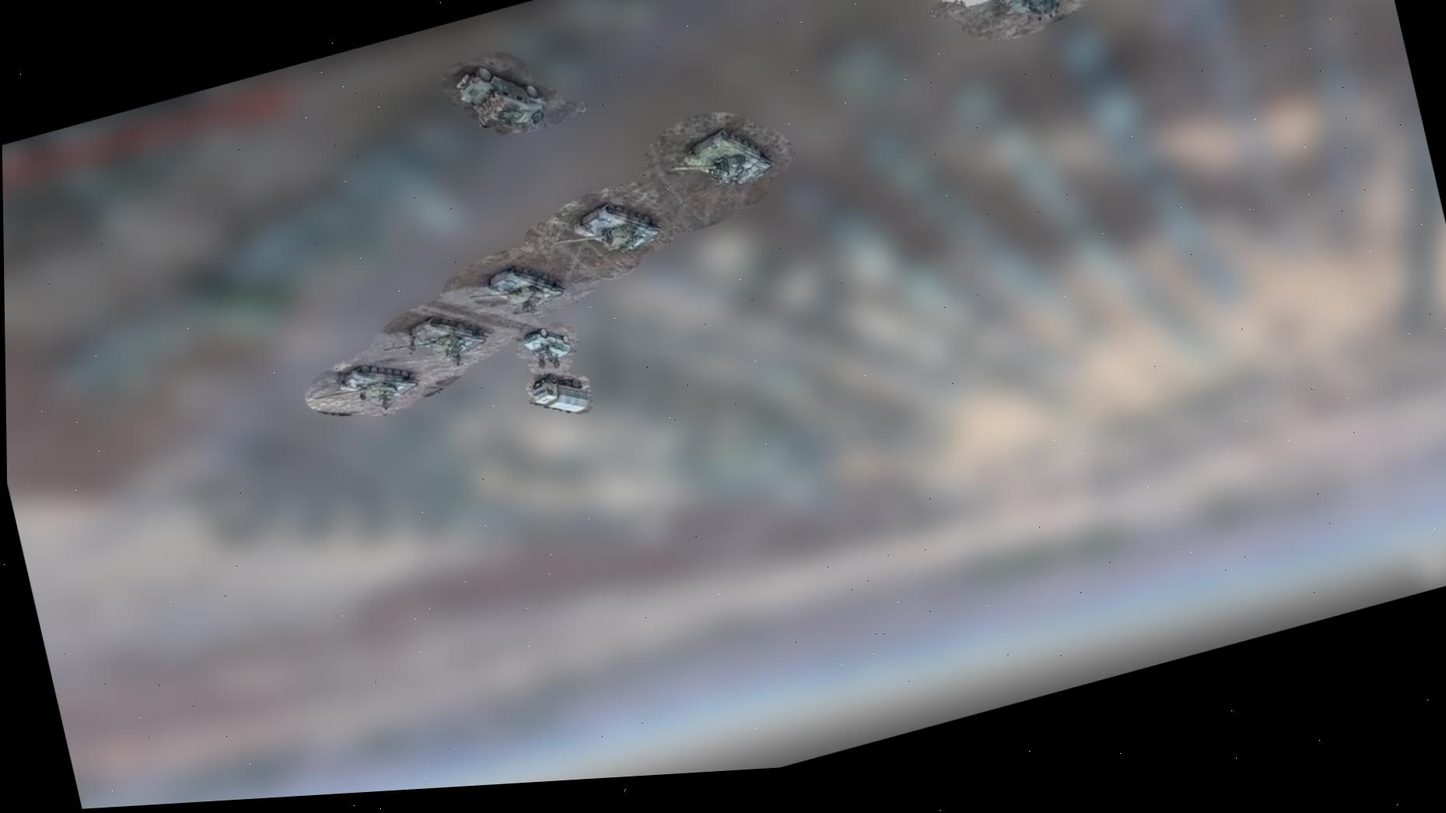armored_car: (451, 50, 549, 146), (521, 320, 575, 367)
tank: (663, 116, 779, 204), (546, 188, 666, 273), (379, 300, 493, 376), (307, 348, 424, 422), (464, 252, 571, 330), (955, 0, 1078, 35)
truck: (527, 365, 593, 423)
